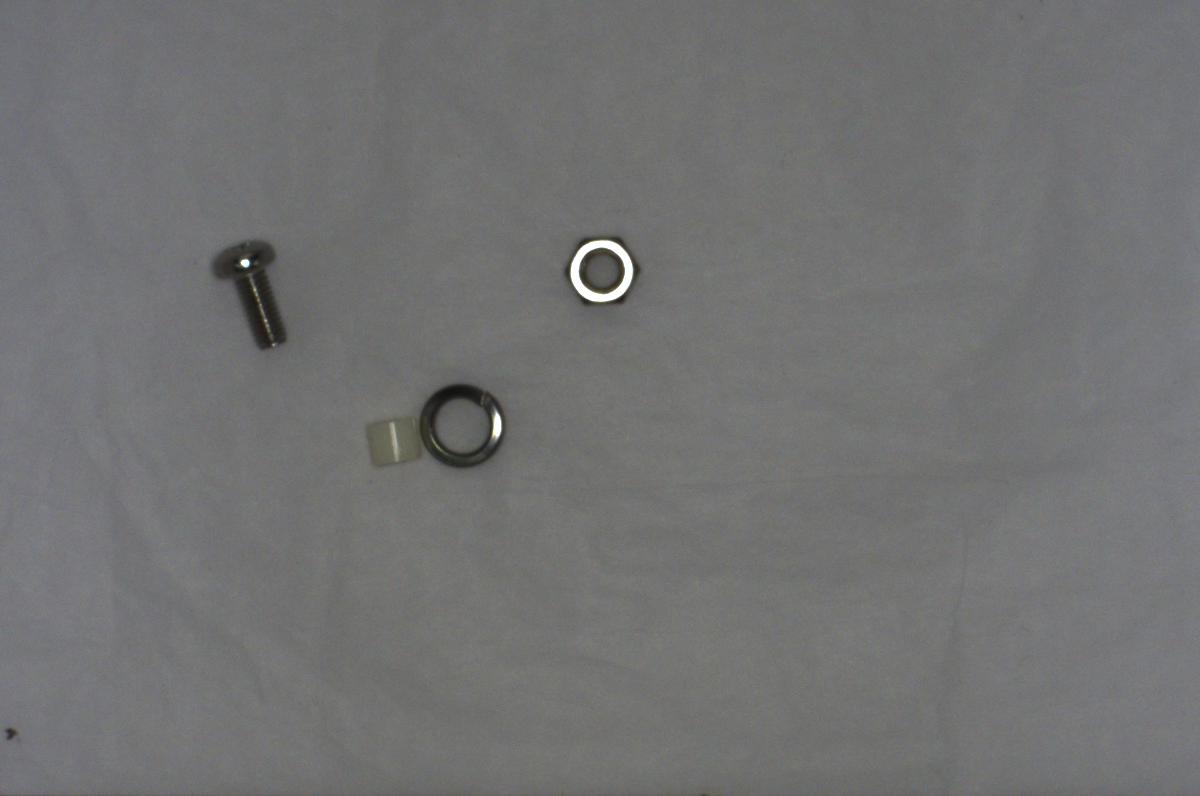Hexagon nut: (557, 223, 641, 309)
Plastic cushion pillar: (351, 406, 426, 472)
Round head screw: (204, 234, 298, 350)
Spring washer: (412, 376, 508, 470)
